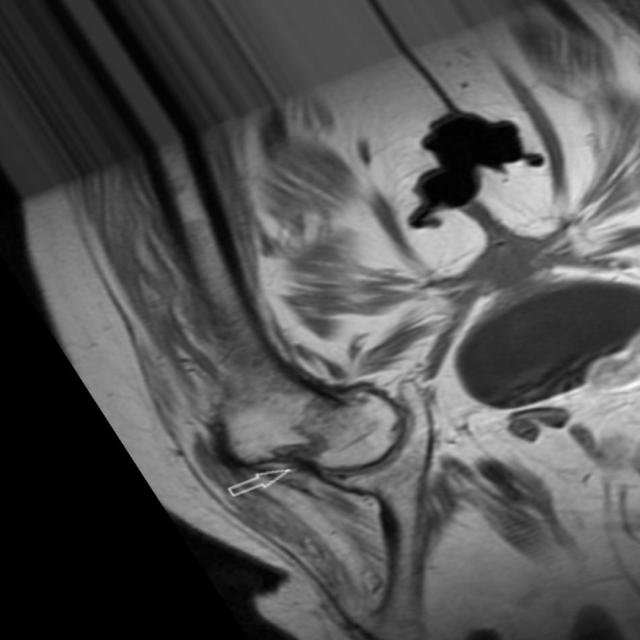Transverse Displaced: (288, 384, 354, 473)
